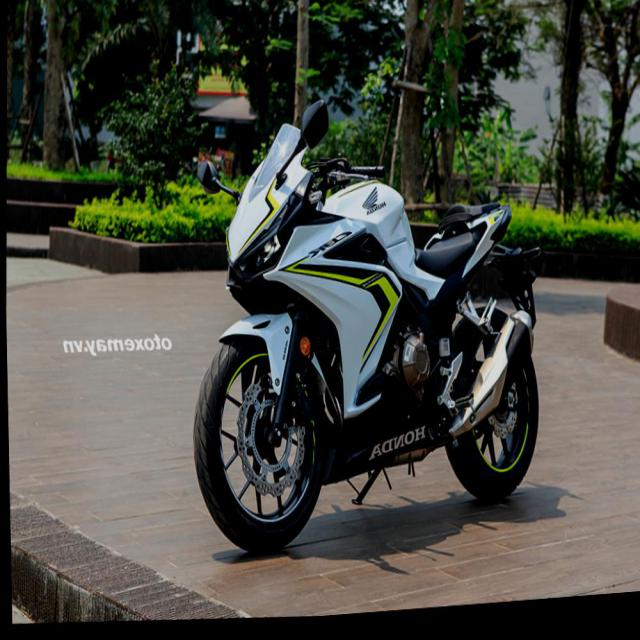CBR500R: (179, 81, 549, 582)
